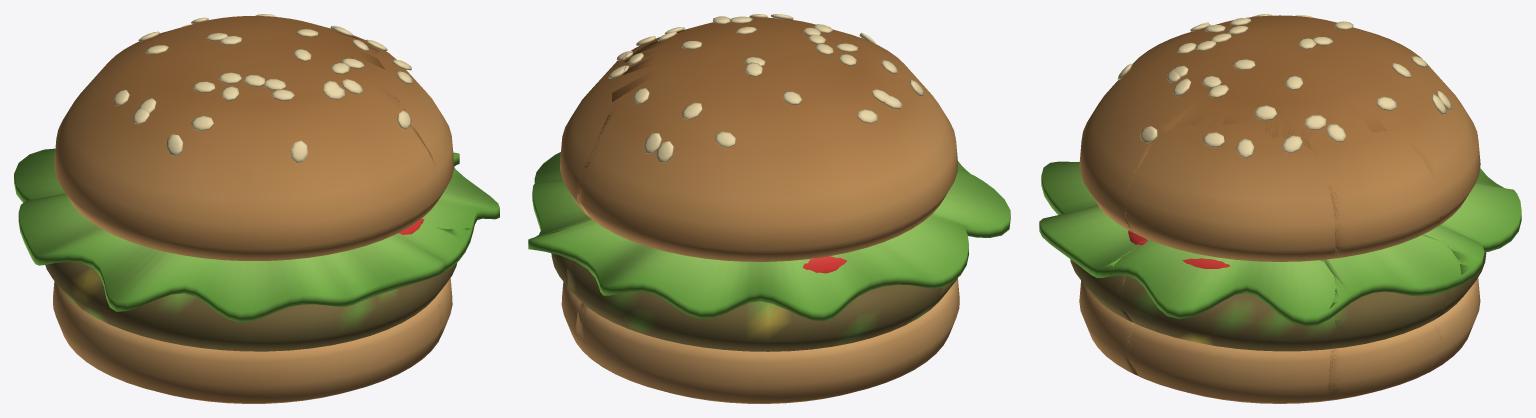
The model's file is garden_burger_held.glb.
The picture shows the model from 3 angles, left to right: view 1: azimuth 30°, elevation 25°; view 2: azimuth 150°, elevation 25°; view 3: azimuth 270°, elevation 25°; orthographic projection.
Visible parts, largest first — view 1: BunTop, Lettuce, BunBottom, Patty, Oats, BunTop.001, BunTop.002, Oats.001, Patty.002, BunBottom.001, Lettuce.001; view 2: BunTop, Lettuce, BunBottom, Patty, BunTop.001, Oats, BunTop.002, Oats.001, Tomato2, Lettuce.002; view 3: BunTop, Lettuce, BunBottom, Patty, BunTop.001, Oats, BunTop.002, Lettuce.001, BunBottom.001, Lettuce.002, Oats.001, Tomato (+1 smaller).
Part boxes in pixels (x1=…): BunTop: x1=54, y1=16, x2=453, y2=260; Lettuce: x1=14, y1=148, x2=499, y2=322; BunBottom: x1=53, y1=278, x2=452, y2=403; Patty: x1=45, y1=262, x2=456, y2=351; Oats: x1=113, y1=14, x2=412, y2=163; BunTop.001: x1=100, y1=16, x2=437, y2=260; BunTop.002: x1=125, y1=24, x2=400, y2=260; Oats.001: x1=114, y1=14, x2=410, y2=162; Patty.002: x1=158, y1=285, x2=409, y2=350; BunBottom.001: x1=169, y1=297, x2=441, y2=403; Lettuce.001: x1=127, y1=224, x2=470, y2=321; BunTop: x1=560, y1=17, x2=957, y2=261; Lettuce: x1=528, y1=152, x2=1010, y2=321; BunBottom: x1=561, y1=278, x2=959, y2=403; Patty: x1=551, y1=253, x2=957, y2=351; BunTop.001: x1=561, y1=17, x2=957, y2=200; Oats: x1=608, y1=14, x2=923, y2=162; BunTop.002: x1=577, y1=25, x2=954, y2=218; Oats.001: x1=609, y1=15, x2=919, y2=160; Tomato2: x1=802, y1=256, x2=846, y2=273; Lettuce.002: x1=529, y1=220, x2=679, y2=284; BunTop: x1=1079, y1=15, x2=1480, y2=261; Lettuce: x1=1039, y1=135, x2=1521, y2=326; BunBottom: x1=1079, y1=277, x2=1480, y2=403; Patty: x1=1070, y1=252, x2=1486, y2=351; BunTop.001: x1=1099, y1=29, x2=1448, y2=258; Oats: x1=1118, y1=14, x2=1451, y2=158; BunTop.002: x1=1128, y1=28, x2=1460, y2=226; Lettuce.001: x1=1041, y1=189, x2=1518, y2=319; BunBottom.001: x1=1095, y1=301, x2=1435, y2=401; Lettuce.002: x1=1053, y1=187, x2=1513, y2=284; Oats.001: x1=1118, y1=15, x2=1445, y2=142; Tomato: x1=1128, y1=230, x2=1229, y2=268.
Bounding box in the file's own units: 0.1332 × 0.0866 × 0.1323.
